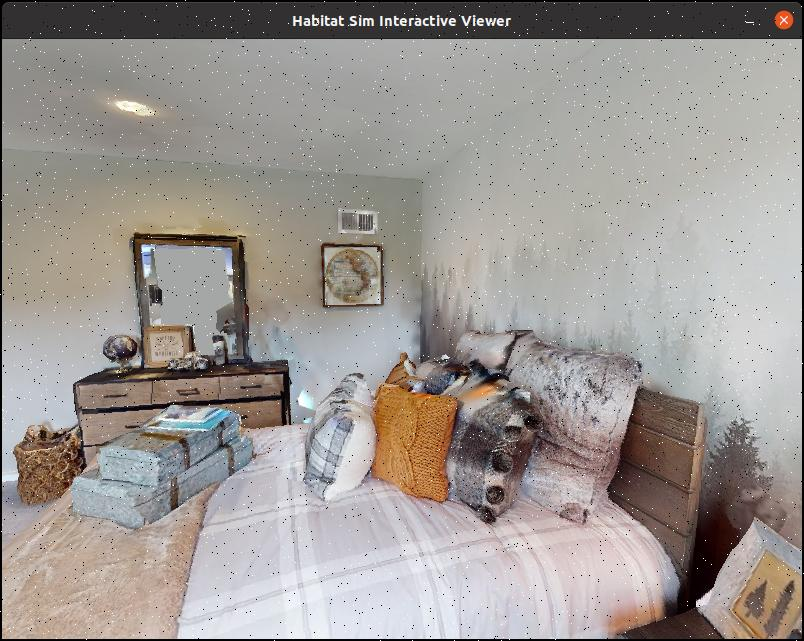bed: (0, 327, 725, 641)
